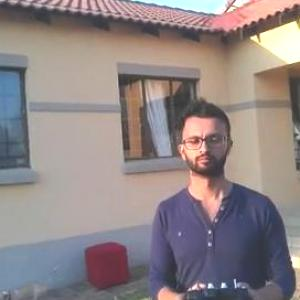follow: (141, 92, 299, 299)
null: (1, 263, 63, 299)
